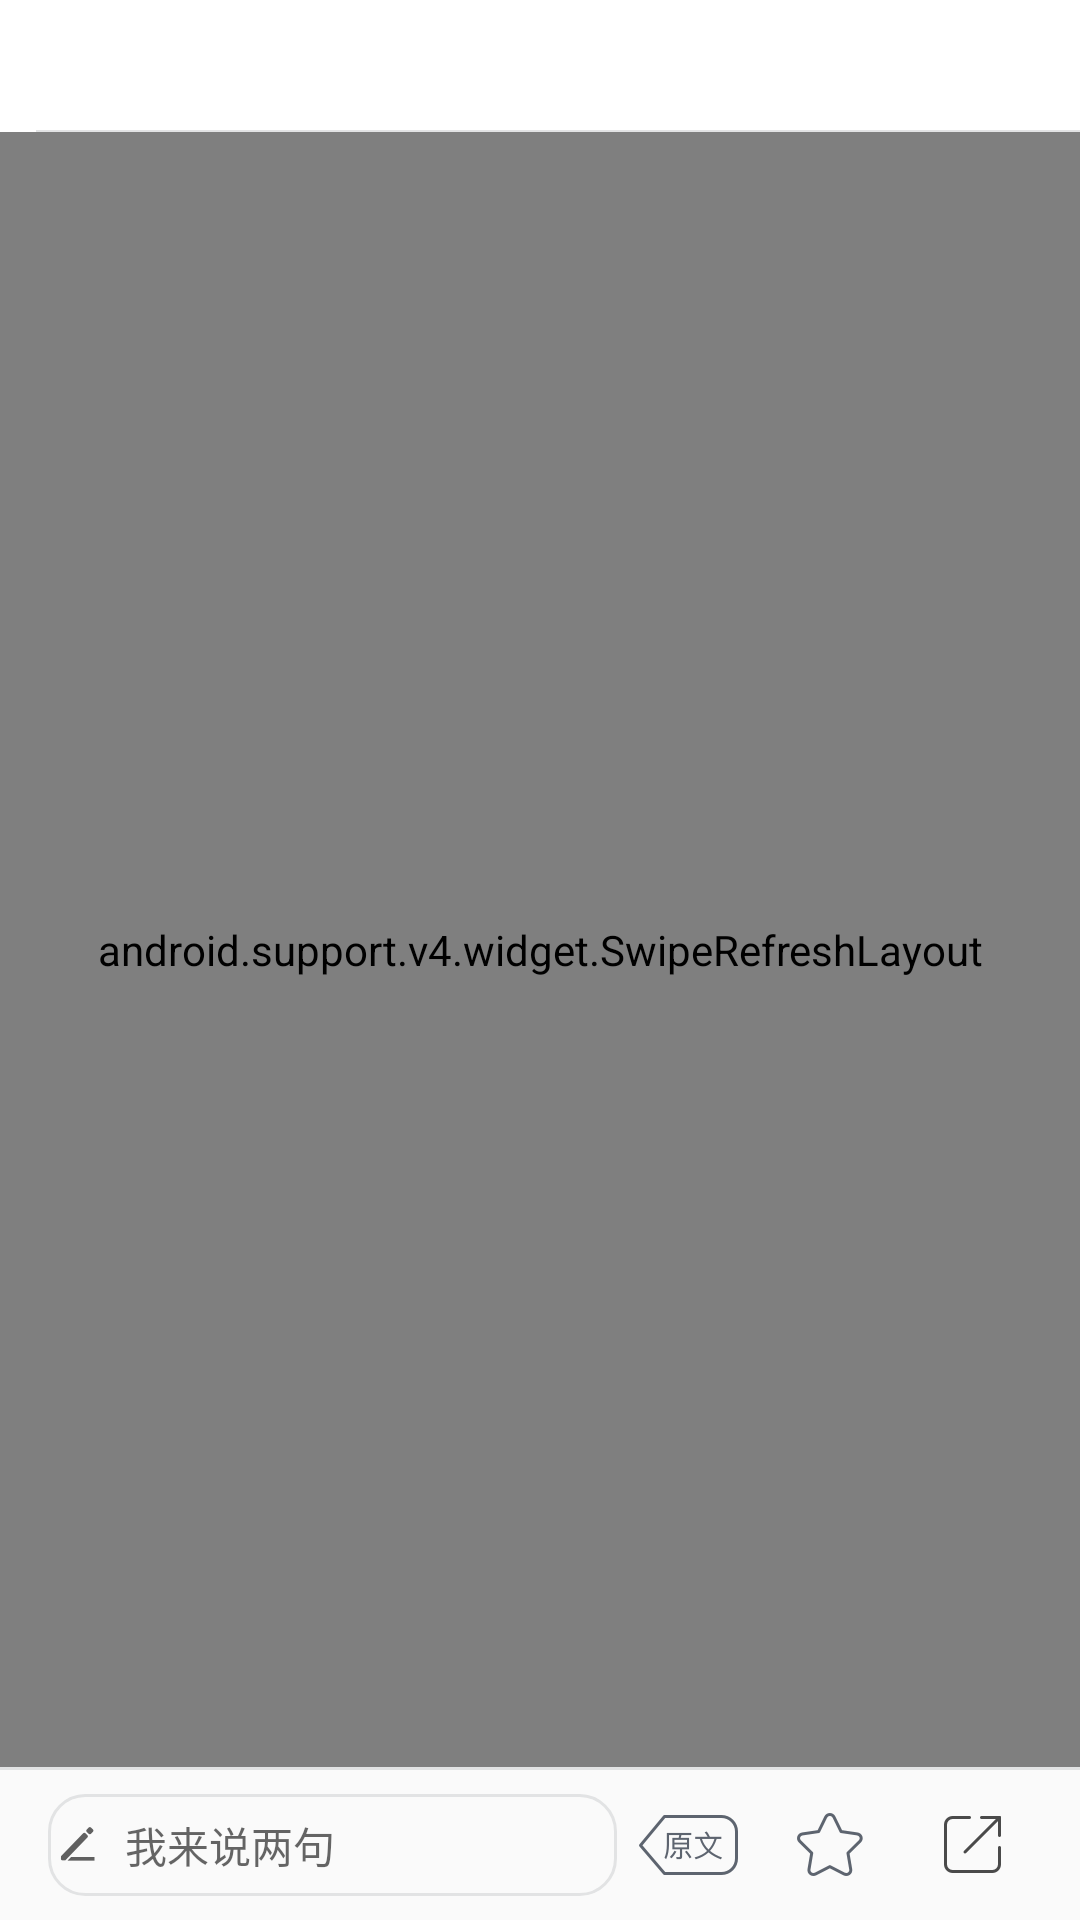

Named icons in this screenshot (1080×1920) and their centers, point (x, y):
collection: point (830, 1844)
share: point (972, 1844)
